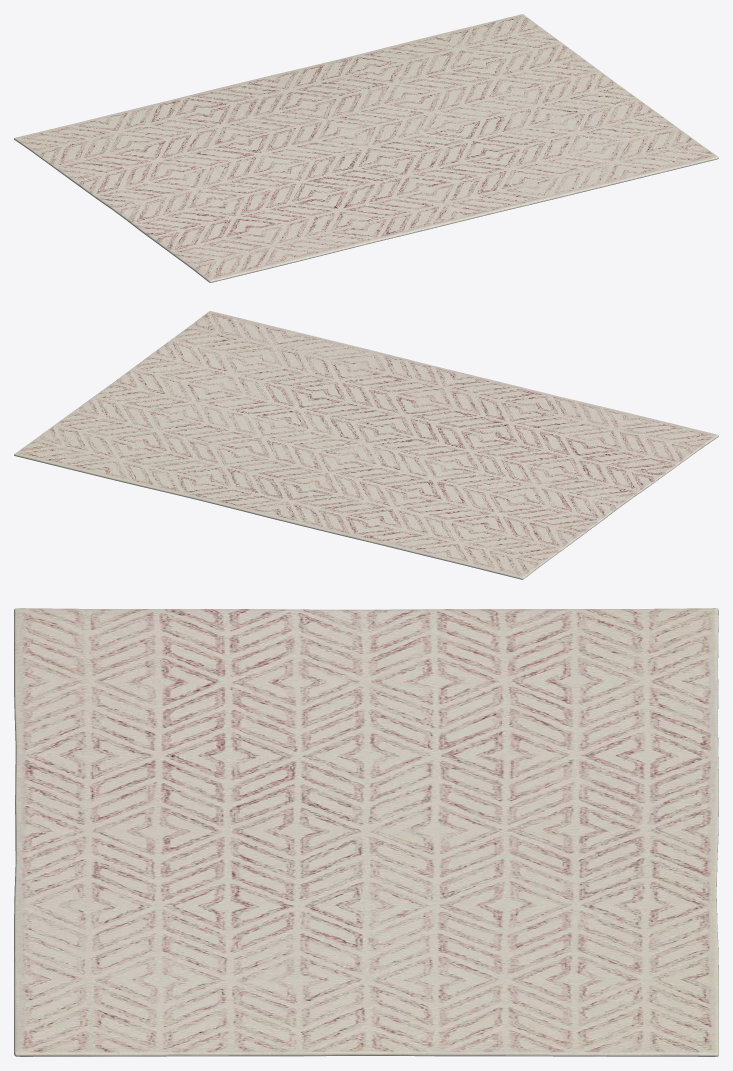
Rendered from B07QB8JRC3.glb.
3 renders of one model, top to bottom at view 1: azimuth 30°, elevation 25°; view 2: azimuth 150°, elevation 25°; view 3: azimuth 270°, elevation 25°, orthographic. The views are drawn at different scales.
Parts seen in each view (by area): view 1: RootNode; view 2: RootNode; view 3: RootNode.
Part boxes in pixels (x1,y1,x2,y2): RootNode: (14,14,718,282); RootNode: (14,311,718,579); RootNode: (14,608,718,1056).
Size of the model in its own units: 1.83 by 0.00747 by 1.22.
Materials: 1 (1 with a texture image).
